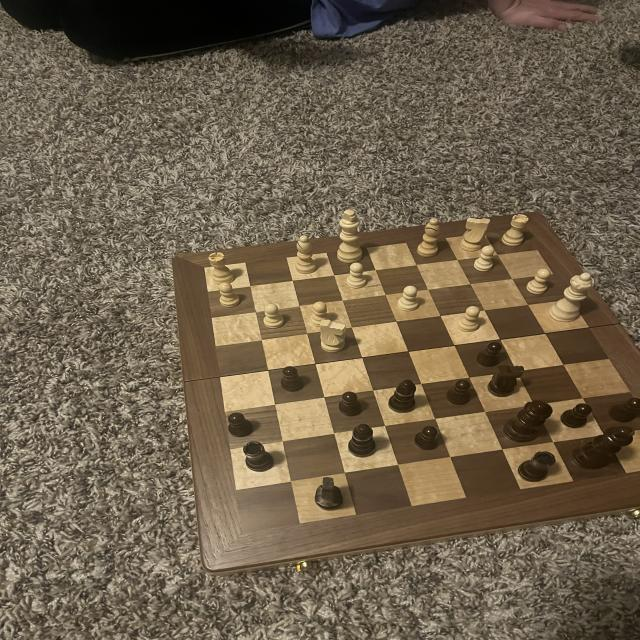bishop: (386, 377, 420, 416), (348, 421, 379, 460)
black-bishop: (567, 423, 638, 473)
black-king: (485, 364, 528, 398), (314, 475, 344, 513)
black-knight: (558, 400, 594, 430), (443, 379, 477, 408), (608, 394, 640, 424), (225, 410, 255, 439), (412, 425, 444, 452), (277, 364, 305, 394), (474, 340, 504, 368), (338, 390, 366, 419)
black-pawn: (501, 398, 553, 444)
black-queen: (512, 450, 558, 486), (238, 440, 276, 473)
black-rook: (414, 215, 445, 258), (294, 233, 322, 276)
white-bishop: (332, 208, 369, 264)
white-king: (458, 215, 493, 252), (318, 317, 352, 354)
white-knight: (470, 242, 498, 274), (524, 268, 553, 297), (456, 304, 482, 334), (260, 302, 287, 330), (217, 281, 243, 309), (395, 286, 421, 313), (344, 262, 369, 290), (309, 300, 331, 331)
white-pawn: (546, 271, 597, 325)
white-queen: (499, 212, 532, 247), (206, 250, 238, 286)
